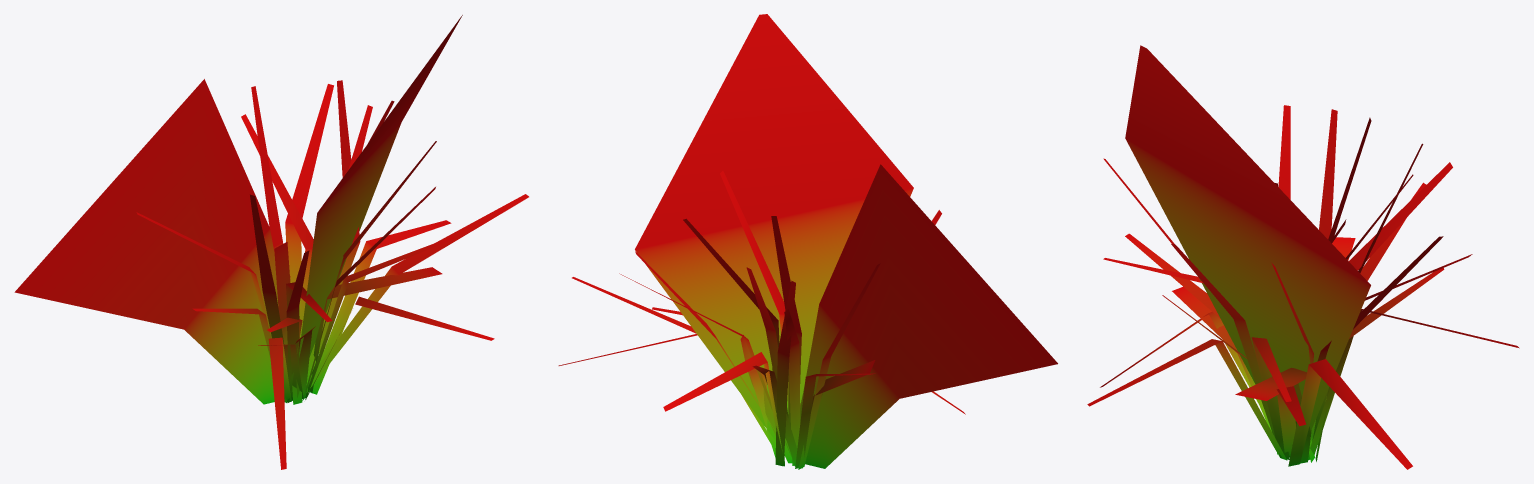
Rendered from Var4_LOD2.fbx.
The picture shows the model from 3 angles, left to right: view 1: azimuth 30°, elevation 25°; view 2: azimuth 150°, elevation 25°; view 3: azimuth 270°, elevation 25°; orthographic projection. The views are drawn at different scales.
Parts seen in each view (by area): view 1: _774f_Var4_LOD2; view 2: _774f_Var4_LOD2; view 3: _774f_Var4_LOD2.
Part boxes in pixels (x1,y1,x2,y2): _774f_Var4_LOD2: (14,15,528,469); _774f_Var4_LOD2: (558,14,1057,469); _774f_Var4_LOD2: (1087,45,1519,469).
Bounding box in the file's own units: 86.14 × 64.58 × 54.27.
